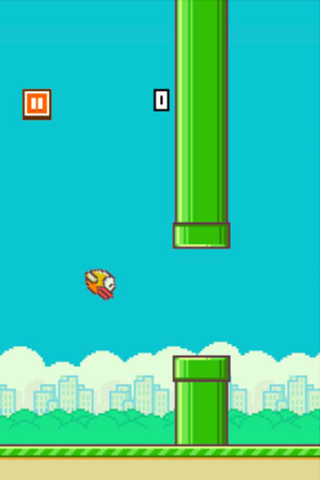flappybird: (81, 265, 119, 303)
green-pipe-down: (170, 354, 232, 449)
green-pipe-up: (173, 1, 234, 249)
